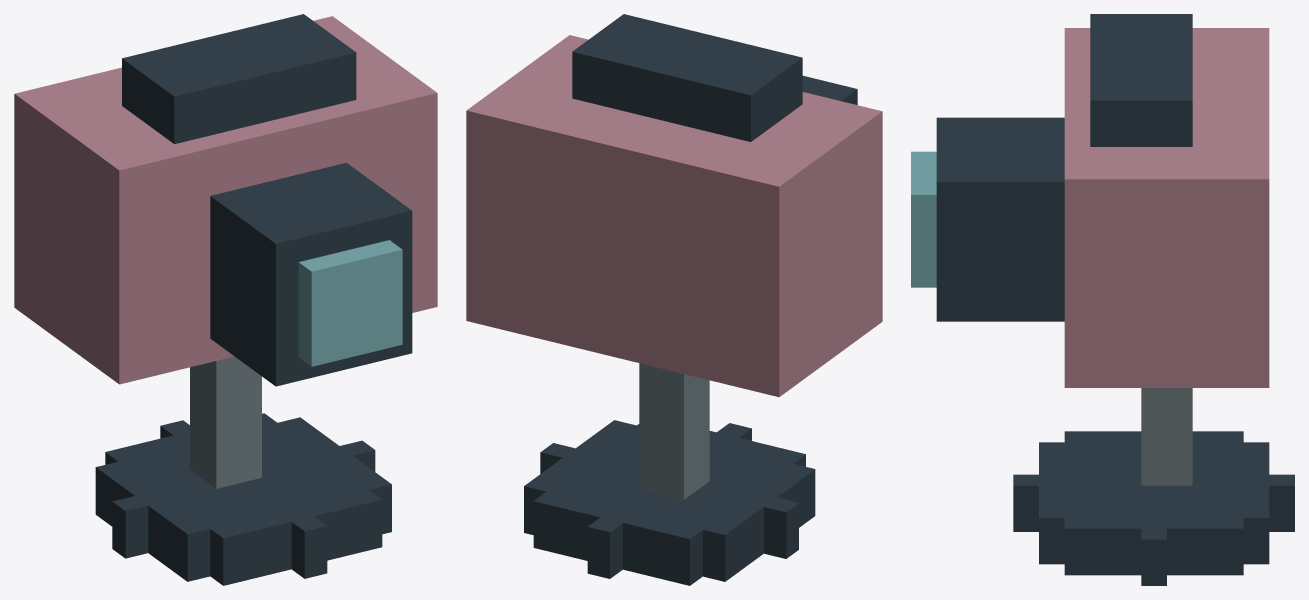
The model's file is fashion-17.glb.
The picture shows the model from 3 angles, left to right: view 1: azimuth 30°, elevation 25°; view 2: azimuth 150°, elevation 25°; view 3: azimuth 270°, elevation 25°; orthographic projection. The views are drawn at different scales.
Parts seen in each view (by area): view 1: Fashion camera; view 2: Fashion camera; view 3: Fashion camera.
Part boxes in pixels (x1=…): Fashion camera: x1=14, y1=14, x2=437, y2=585; Fashion camera: x1=466, y1=14, x2=882, y2=585; Fashion camera: x1=911, y1=14, x2=1294, y2=585.
Size of the model in its own units: 1.12 by 1.6 by 1.2.
